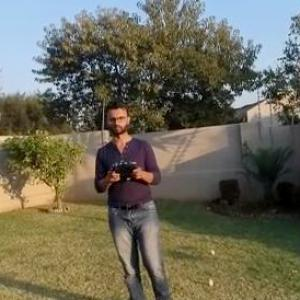follow: (89, 93, 174, 299)
